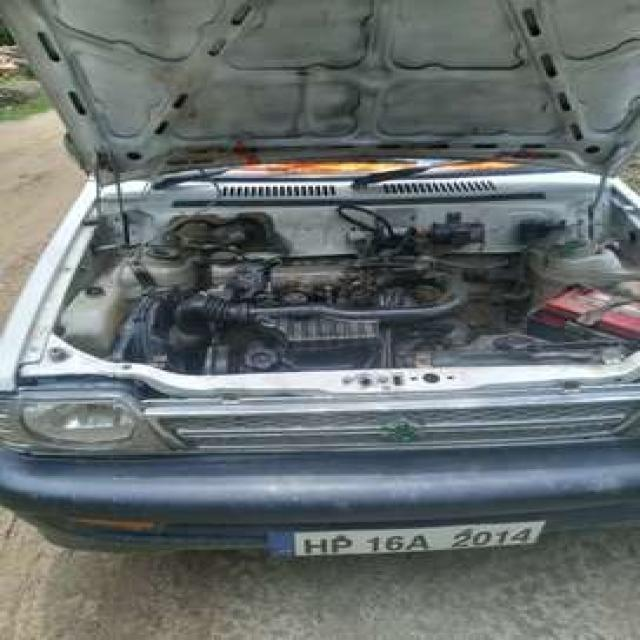license_plate: (280, 514, 556, 563)
